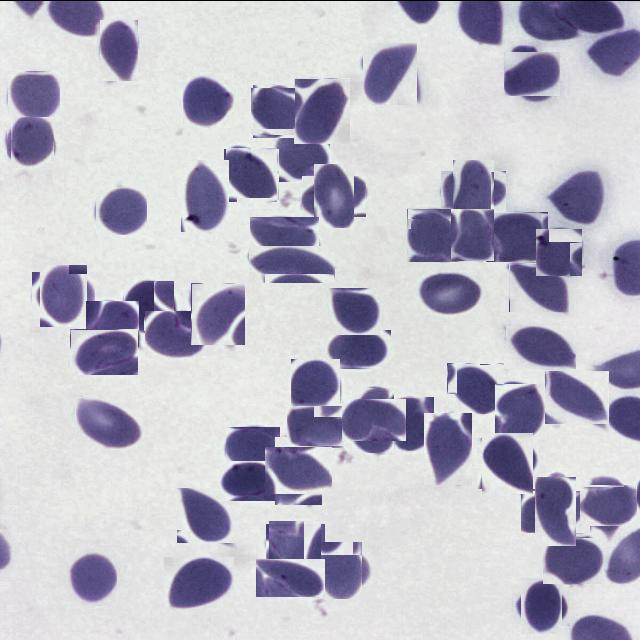red blood cell: (164, 556, 234, 610), (294, 77, 350, 143), (75, 396, 144, 449), (424, 412, 472, 484), (181, 159, 229, 231), (545, 370, 609, 423), (192, 282, 246, 344), (270, 441, 327, 499), (362, 44, 419, 102), (248, 244, 335, 282), (177, 486, 234, 542), (480, 434, 536, 490), (268, 521, 324, 577), (70, 328, 138, 374), (505, 324, 576, 368), (486, 211, 548, 261), (528, 483, 583, 539), (417, 272, 483, 318), (36, 267, 91, 322), (346, 392, 401, 447), (64, 548, 118, 604), (549, 170, 604, 224), (509, 262, 569, 311), (380, 396, 434, 450), (407, 207, 461, 261), (495, 383, 547, 439), (447, 362, 504, 413), (272, 131, 330, 181), (145, 310, 206, 357), (182, 73, 236, 126), (542, 537, 604, 583), (447, 164, 500, 217), (225, 147, 278, 200), (286, 404, 349, 447), (308, 170, 360, 222), (315, 544, 366, 596), (8, 70, 60, 121), (250, 216, 319, 254), (256, 558, 325, 596), (95, 185, 147, 234), (124, 280, 174, 330), (508, 48, 558, 98), (252, 86, 302, 136), (584, 480, 634, 530), (327, 329, 391, 368), (86, 300, 139, 346), (291, 358, 340, 407), (517, 580, 566, 629), (220, 460, 280, 500), (329, 287, 380, 334), (100, 19, 138, 80), (9, 118, 56, 166), (535, 227, 582, 275), (451, 208, 494, 260), (226, 426, 280, 467)
